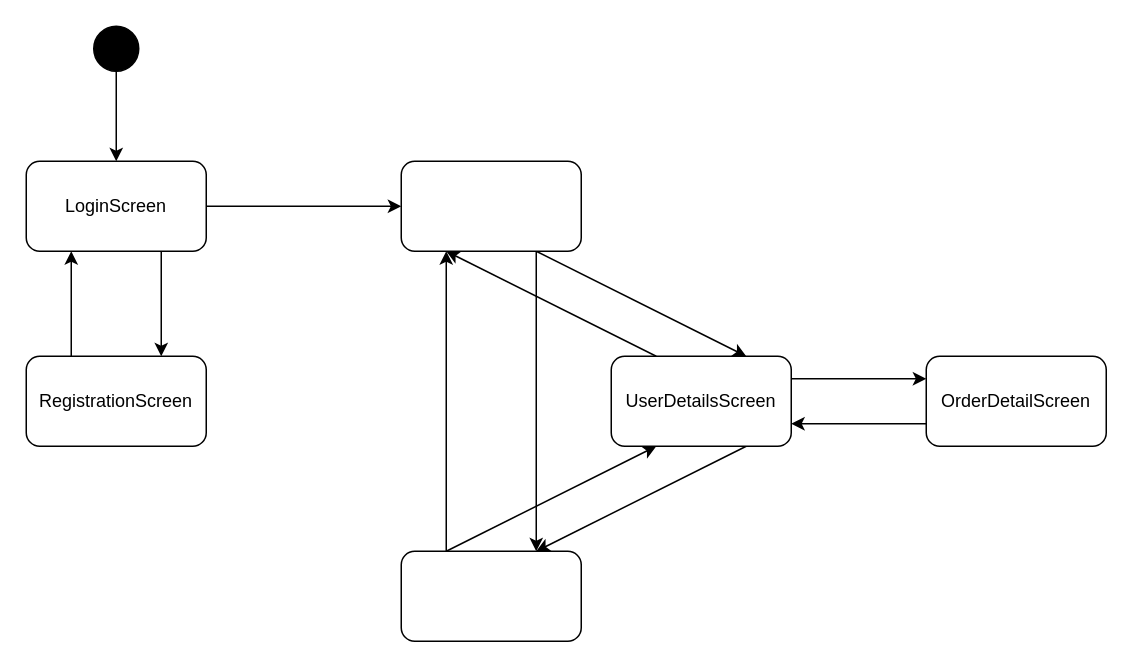
This 1133x668 diagram has some shape labels left out. The shapes that lost their labels are listed below. From the top down, each one's centre as x and y in pixels, then its label:
At point (490, 205): "MenuScreen".
At point (490, 595): "CartScreen".
